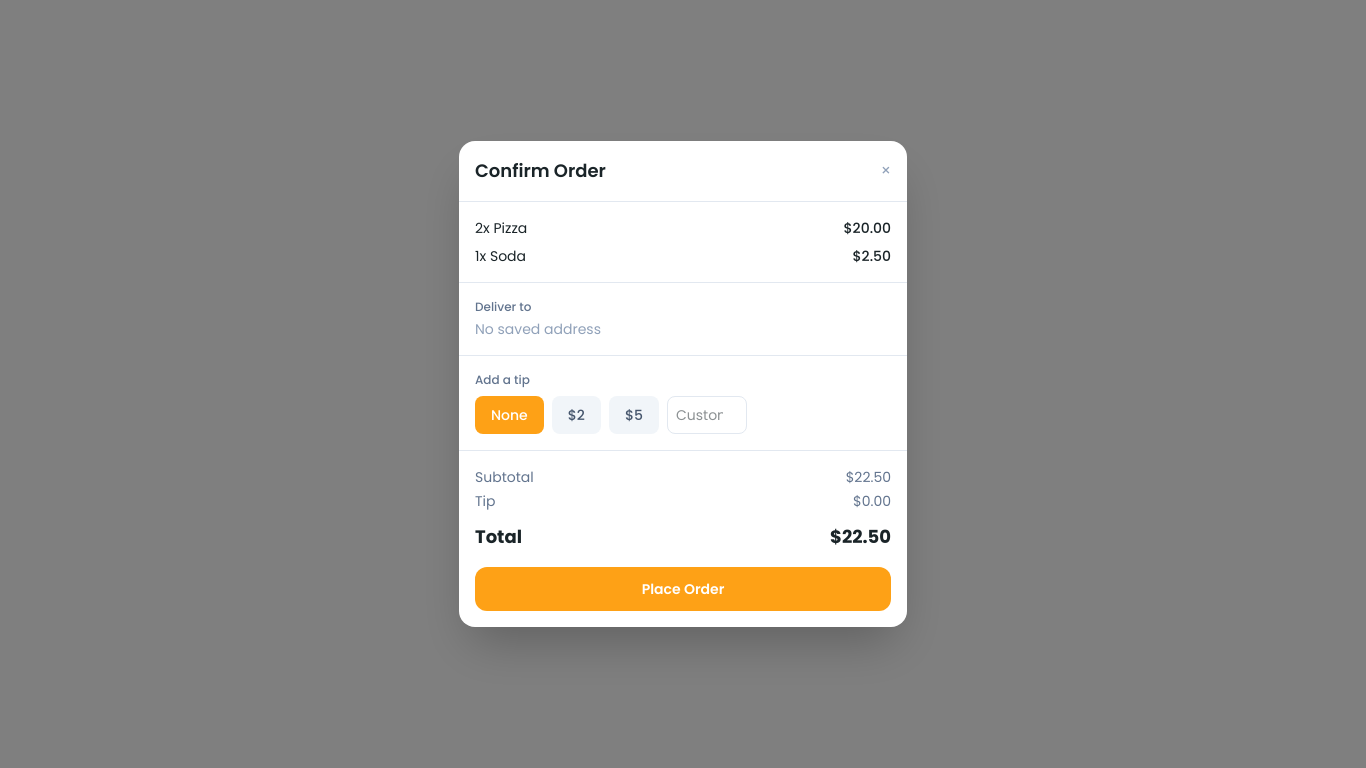
Test case: CheckoutModal › on Place Order success, shows confirmation and pushes /orders/{id}
The width and height of the screenshot is (1366, 768).
Click the button "Place Order" at (683,589), box [475,567,891,611]
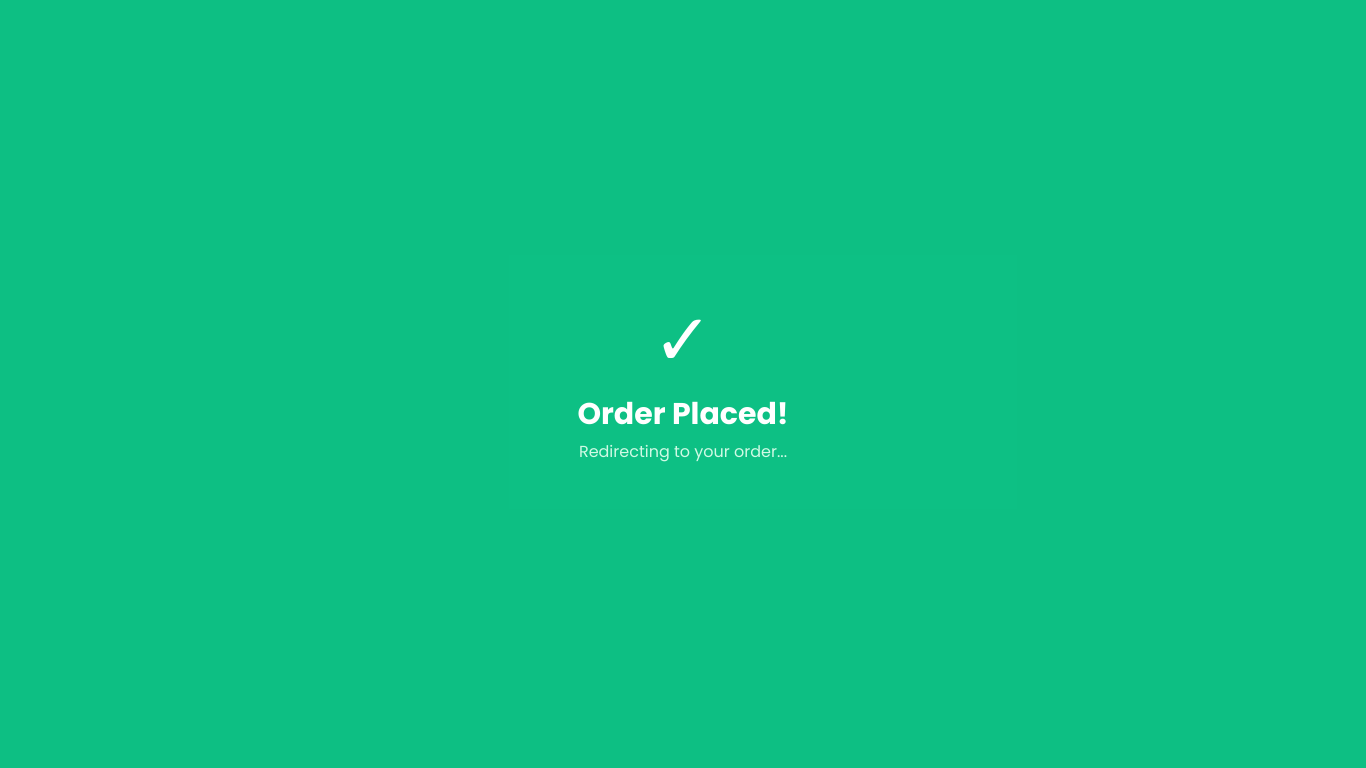
Check: the heading "Order Placed!" is shown, box [577,396,789,432]
